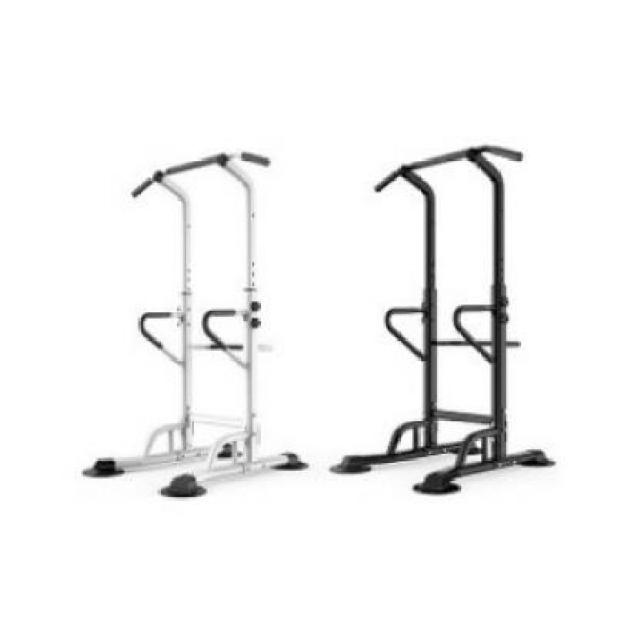chinning dipping: (86, 146, 311, 500), (334, 144, 558, 493)
